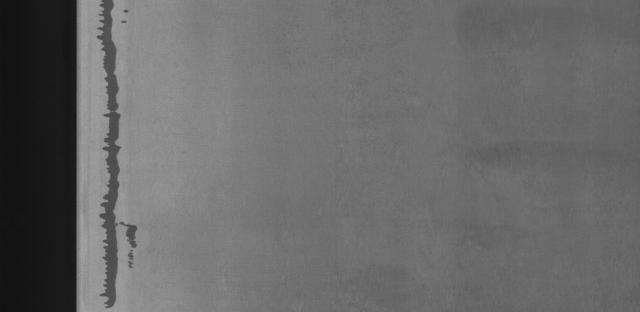oil_spot: (92, 0, 154, 312)
